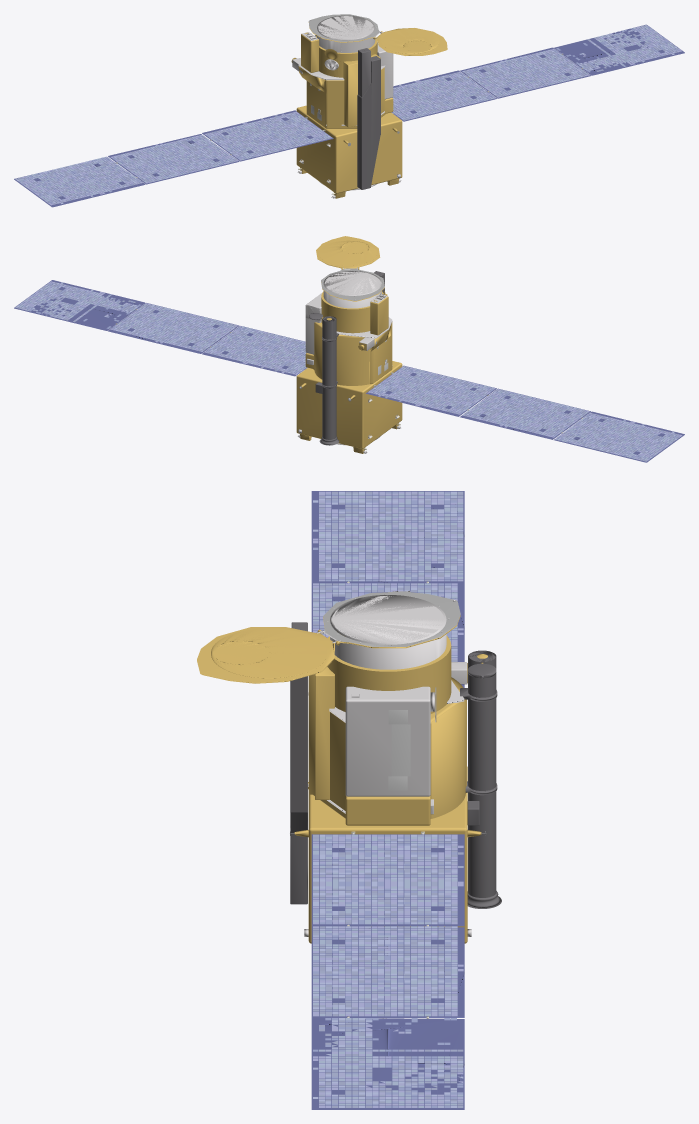
File: hinode.glb
The picture shows the model from 3 angles, top to bottom: view 1: azimuth 30°, elevation 25°; view 2: azimuth 150°, elevation 25°; view 3: azimuth 270°, elevation 25°; orthographic projection. The views are drawn at different scales.
Visible parts, largest first — view 1: Fake; view 2: Fake; view 3: Fake.
Boxes of the visible parts, box(x1,y1,x2,y2) form: Fake: box(14, 14, 684, 207); Fake: box(14, 236, 684, 462); Fake: box(197, 491, 501, 1109).
Size of the model in its own units: 9 by 2.06 by 1.88.
